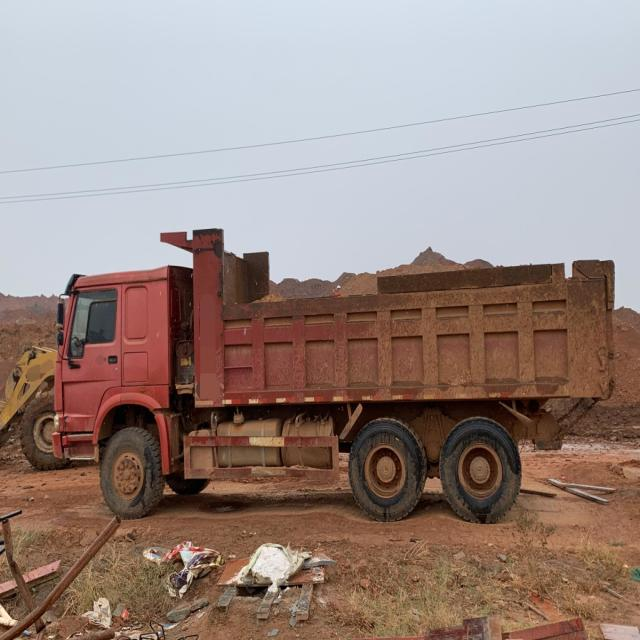machinery: (0, 345, 72, 471)
truck: (51, 228, 614, 524)
